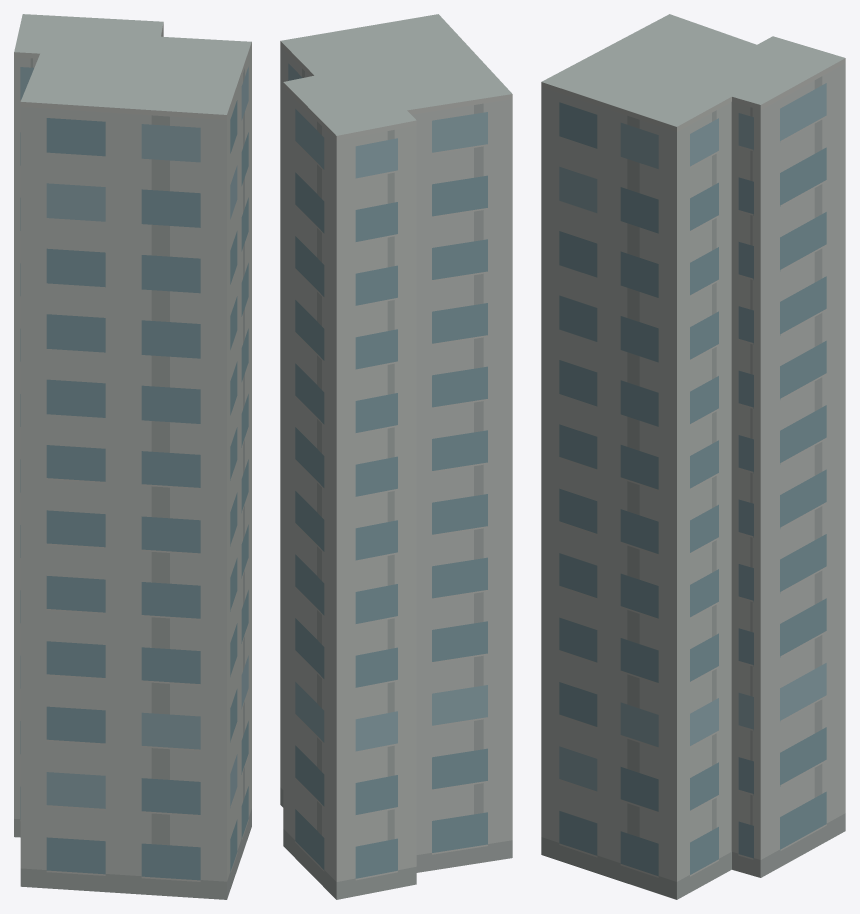
Rendered from survey-upis-32835814.glb.
3 views of the same model, side by side, from view 1: azimuth 30°, elevation 25°; view 2: azimuth 150°, elevation 25°; view 3: azimuth 270°, elevation 25° (orthographic). The views are drawn at different scales.
Parts seen in each view (by area): view 1: survey-upis-32835814.tmp; view 2: survey-upis-32835814.tmp; view 3: survey-upis-32835814.tmp.
Boxes of the visible parts, box(x1,y1,x2,y2) form: survey-upis-32835814.tmp: box(14, 14, 251, 899); survey-upis-32835814.tmp: box(280, 14, 512, 899); survey-upis-32835814.tmp: box(541, 14, 845, 899).
Bounding box in the file's own units: 11.47 × 36.6 × 13.07.
